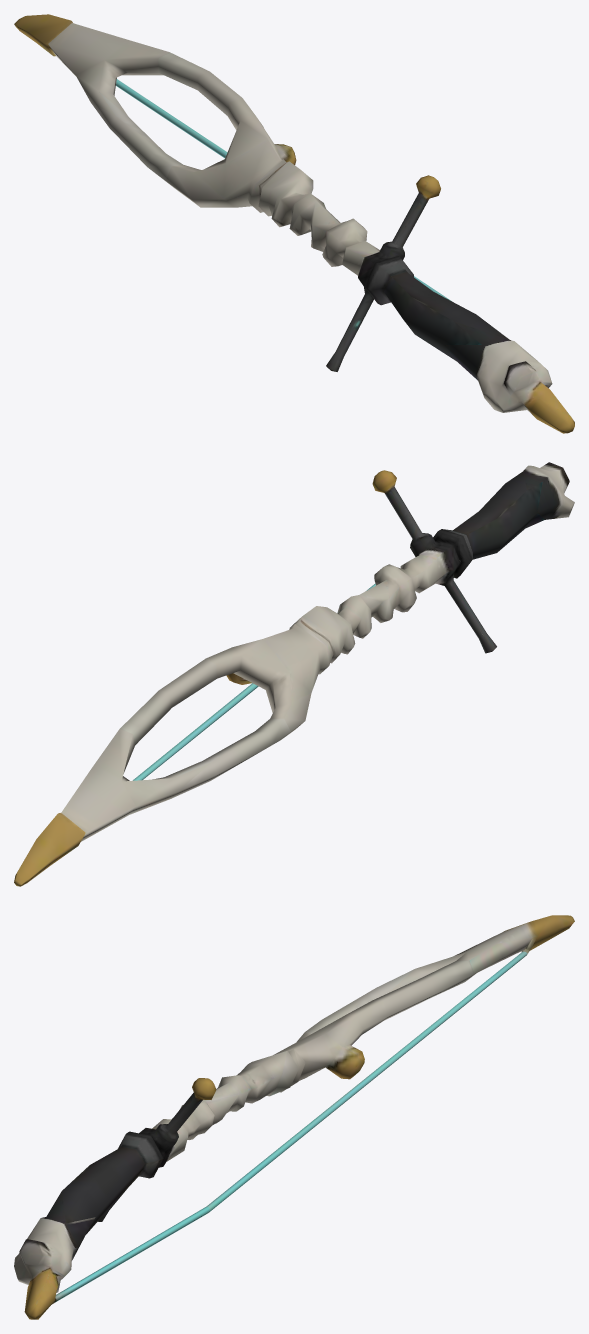
File: f_long_bow.fbx
3 views of the same model, one above another, from view 1: azimuth 30°, elevation 25°; view 2: azimuth 150°, elevation 25°; view 3: azimuth 330°, elevation 25° (orthographic). The views are drawn at different scales.
Visible parts, largest first — view 1: tripo_node_d03762ff-2918-4bbc-ac07-789f575b159d; view 2: tripo_node_d03762ff-2918-4bbc-ac07-789f575b159d; view 3: tripo_node_d03762ff-2918-4bbc-ac07-789f575b159d.
Boxes of the visible parts, bbox=[...] form: tripo_node_d03762ff-2918-4bbc-ac07-789f575b159d: bbox=[14, 14, 574, 433]; tripo_node_d03762ff-2918-4bbc-ac07-789f575b159d: bbox=[14, 462, 574, 886]; tripo_node_d03762ff-2918-4bbc-ac07-789f575b159d: bbox=[14, 915, 574, 1319].
Size of the model in its own units: 0.2133 by 0.2726 by 1.65.
1 material, 1 textured.
